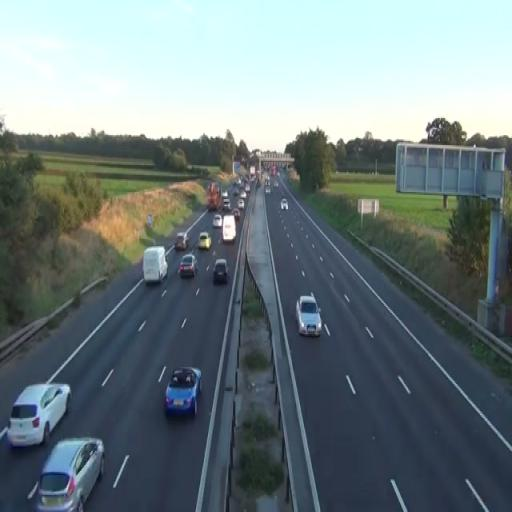Car: (36, 434, 105, 512), (7, 382, 72, 449), (164, 366, 202, 419), (295, 295, 322, 338), (178, 254, 198, 278), (213, 259, 229, 284), (198, 230, 212, 250), (212, 214, 222, 228)
Truck: (143, 246, 168, 284)
